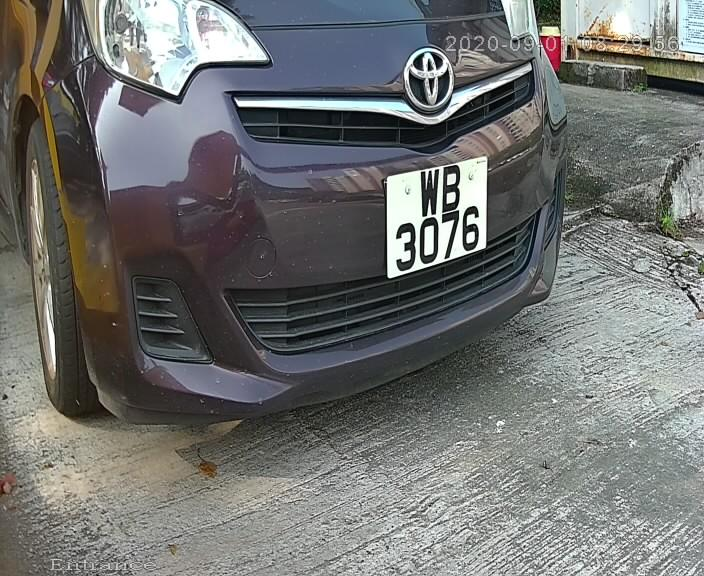Car: (4, 1, 576, 458)
License Plate: (381, 147, 497, 289)
